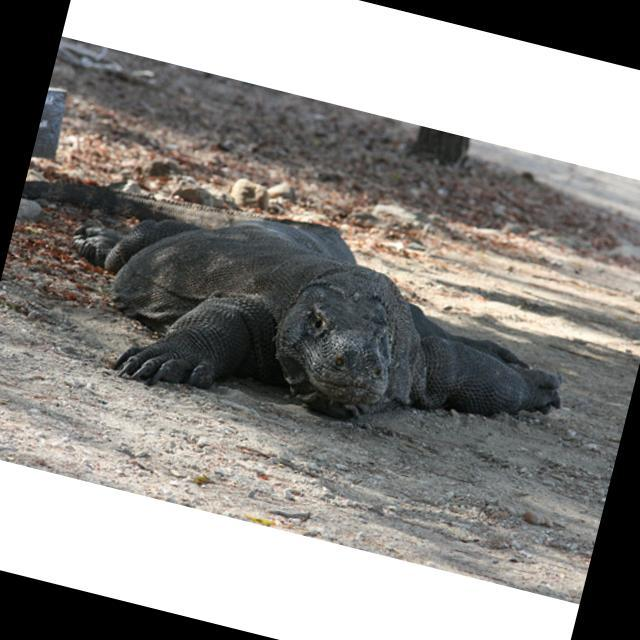KomodoDragon: (0, 150, 589, 482)
